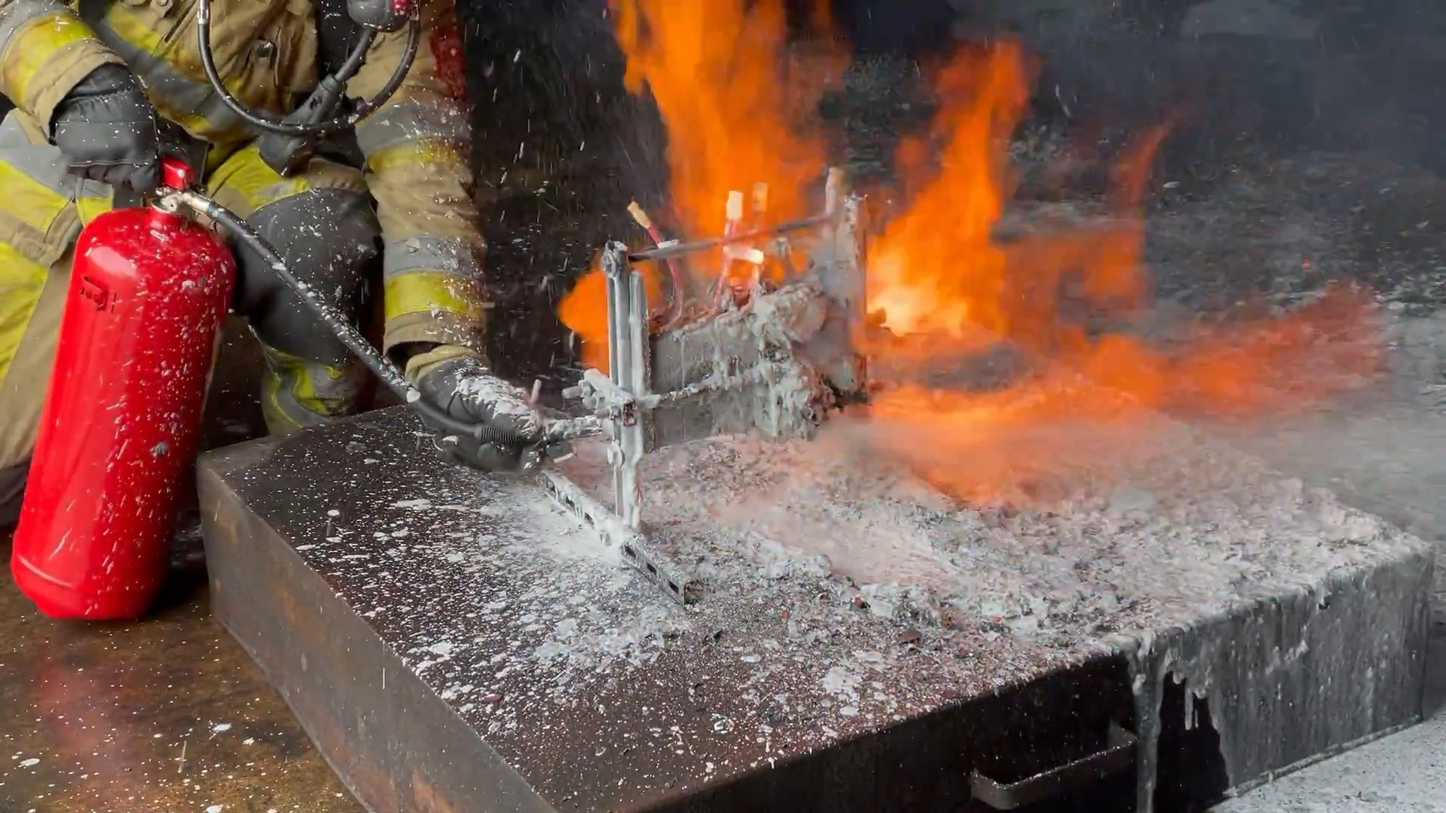fire: (557, 0, 1356, 505)
